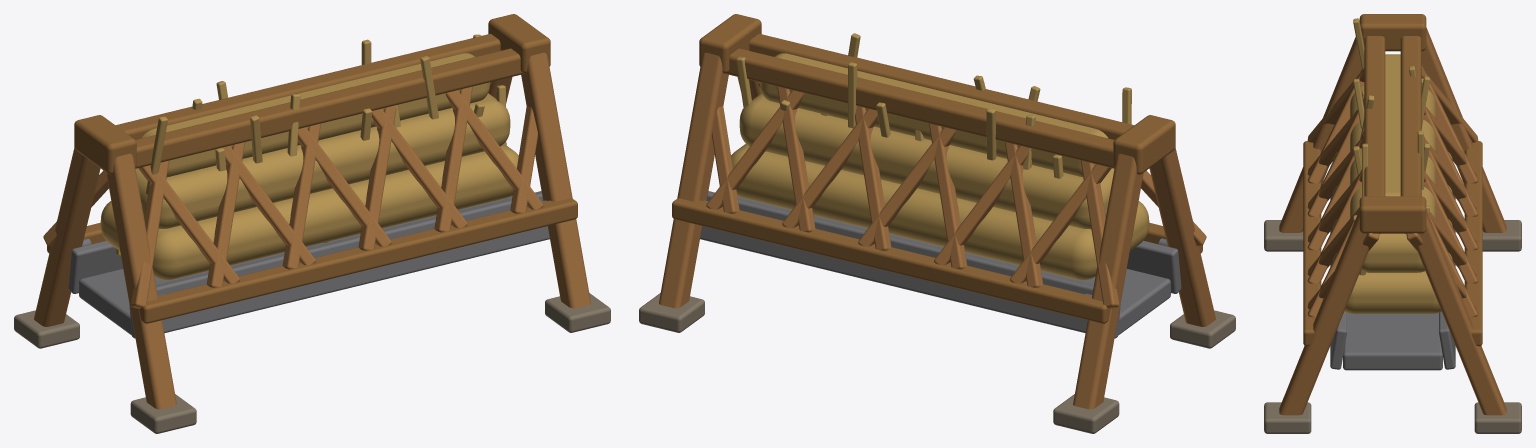
Rendered from hay-rack.glb.
3 renders of one model, left to right at view 1: azimuth 30°, elevation 25°; view 2: azimuth 150°, elevation 25°; view 3: azimuth 270°, elevation 25°, orthographic. The views are drawn at different scales.
Visible parts, largest first — view 1: hay-rack-farm-wood, hay-rack-farm-thatch, hay-rack-farm-wood-dark, hay-rack-farm-metal, hay-rack-farm-stone; view 2: hay-rack-farm-wood, hay-rack-farm-thatch, hay-rack-farm-wood-dark, hay-rack-farm-metal, hay-rack-farm-stone; view 3: hay-rack-farm-wood, hay-rack-farm-wood-dark, hay-rack-farm-thatch, hay-rack-farm-metal, hay-rack-farm-stone.
Part boxes in pixels (bbox=[...]): hay-rack-farm-wood: bbox=[34, 52, 590, 409]; hay-rack-farm-thatch: bbox=[100, 34, 518, 280]; hay-rack-farm-wood-dark: bbox=[47, 14, 577, 323]; hay-rack-farm-metal: bbox=[68, 191, 549, 338]; hay-rack-farm-stone: bbox=[14, 293, 610, 433]; hay-rack-farm-wood: bbox=[659, 52, 1215, 409]; hay-rack-farm-thatch: bbox=[731, 33, 1149, 280]; hay-rack-farm-wood-dark: bbox=[672, 14, 1202, 323]; hay-rack-farm-metal: bbox=[700, 191, 1181, 338]; hay-rack-farm-stone: bbox=[639, 293, 1235, 433]; hay-rack-farm-wood: bbox=[1279, 27, 1506, 415]; hay-rack-farm-wood-dark: bbox=[1303, 14, 1482, 346]; hay-rack-farm-thatch: bbox=[1333, 18, 1452, 313]; hay-rack-farm-metal: bbox=[1330, 195, 1455, 370]; hay-rack-farm-stone: bbox=[1264, 220, 1521, 433].
Bounding box in the file's own units: 3.42 × 1.91 × 1.85.
